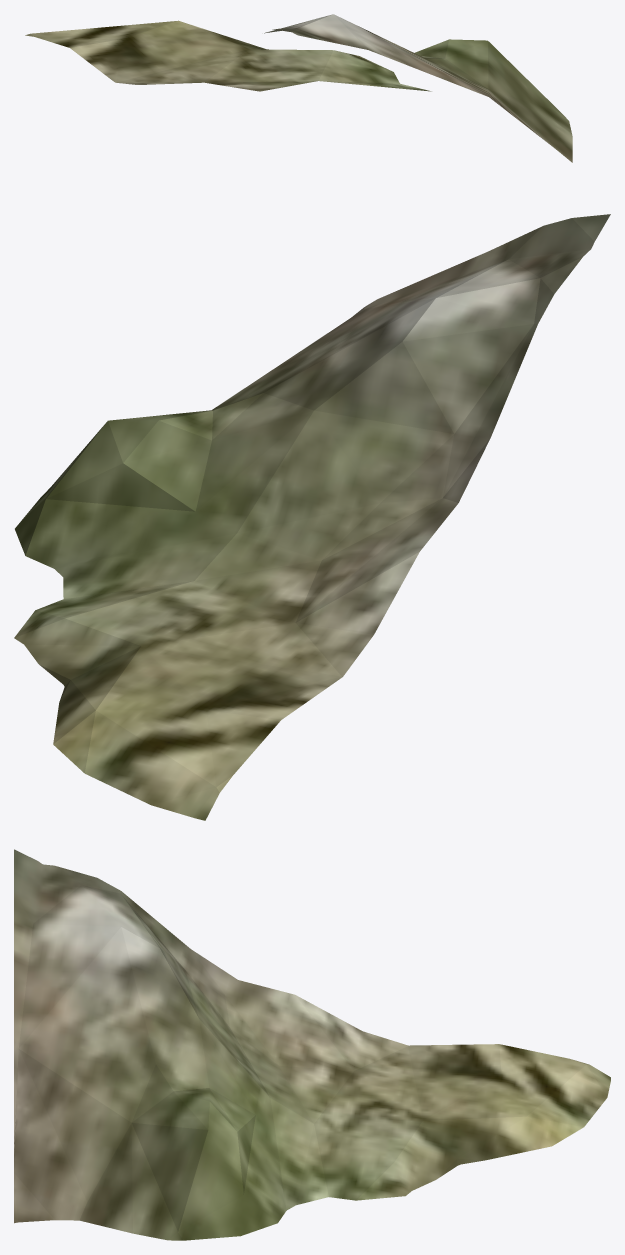
3 renders of one model, top to bottom at view 1: azimuth 30°, elevation 25°; view 2: azimuth 150°, elevation 25°; view 3: azimuth 270°, elevation 25°, orthographic. The views are drawn at different scales.
Bounding box in the file's own units: 0.9982 × 0.6498 × 1.54.
1 material, 1 textured.
